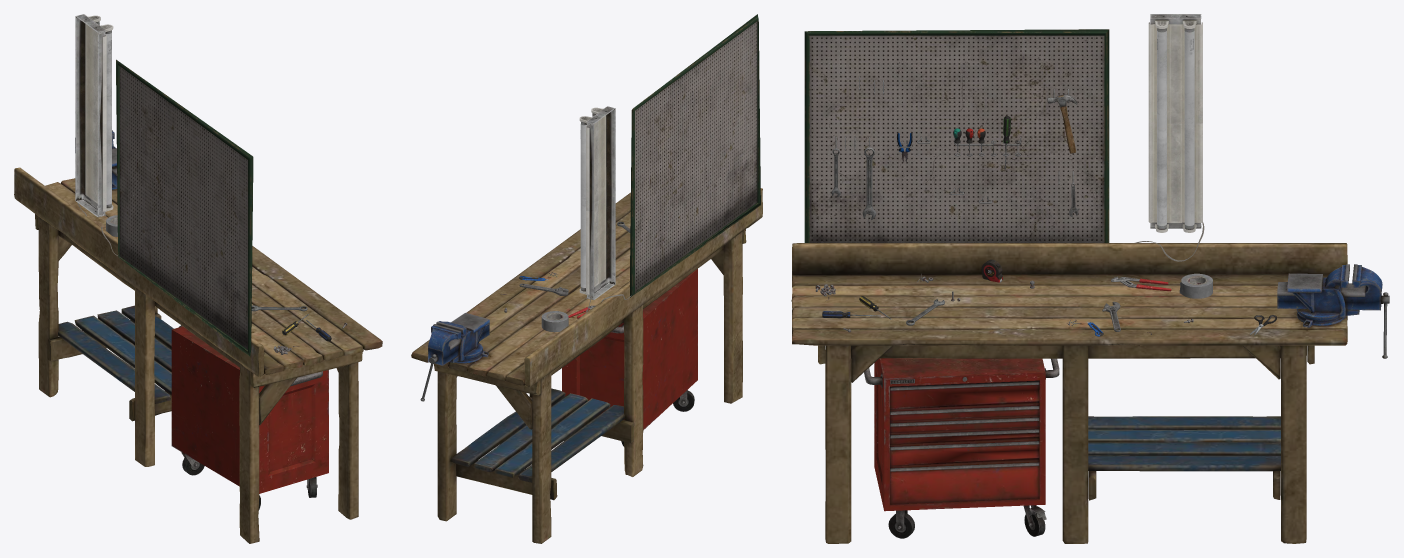
The model's file is workbench-old.glb.
3 renders of one model, left to right at view 1: azimuth 30°, elevation 25°; view 2: azimuth 150°, elevation 25°; view 3: azimuth 270°, elevation 25°, orthographic. The views are drawn at different scales.
Parts seen in each view (by area): view 1: Pegboard_Sheet_low, Tool_Cabinet_Body_low, Workbench_Group_1_low, Workbench_Group_5_low, Workbench_Group_2_low, Light_Fixture_Base_low, Light_Fixture_Plate_low, Pegboard_Frame_low, Workbench_Group_3_low, Workbench_Group_4_low, Light_Fixture_Bulbs_low; view 2: Pegboard_Sheet_low, Workbench_Group_1_low, Workbench_Group_5_low, Tool_Cabinet_Body_low, Workbench_Group_2_low, Workbench_Group_3_low, Light_Fixture_Base_low, Pegboard_Frame_low, Light_Fixture_Plate_low, Vice_Base_low, Vice_Slide_low, Light_Fixture_Bulbs_low (+2 smaller); view 3: Pegboard_Sheet_low, Workbench_Group_1_low, Workbench_Group_2_low, Workbench_Group_5_low, Tool_Cabinet_Drawers_low, Tool_Cabinet_Body_low, Light_Fixture_Plate_low, Workbench_Group_3_low, Pegboard_Frame_low, Light_Fixture_Bulbs_low, Tool_Cabinet_Handles_low, Vice_Base_low (+3 smaller).
Part boxes in pixels (bbox=[...]): Pegboard_Sheet_low: bbox=[119, 66, 250, 349]; Tool_Cabinet_Body_low: bbox=[171, 326, 328, 493]; Workbench_Group_1_low: bbox=[14, 167, 382, 395]; Workbench_Group_5_low: bbox=[38, 217, 358, 543]; Workbench_Group_2_low: bbox=[58, 178, 363, 403]; Light_Fixture_Base_low: bbox=[75, 16, 105, 216]; Light_Fixture_Plate_low: bbox=[85, 24, 106, 211]; Pegboard_Frame_low: bbox=[116, 59, 253, 356]; Workbench_Group_3_low: bbox=[47, 230, 296, 425]; Workbench_Group_4_low: bbox=[35, 214, 362, 387]; Light_Fixture_Bulbs_low: bbox=[96, 21, 111, 207]; Pegboard_Sheet_low: bbox=[635, 18, 757, 291]; Workbench_Group_1_low: bbox=[411, 188, 762, 477]; Workbench_Group_5_low: bbox=[437, 232, 742, 543]; Tool_Cabinet_Body_low: bbox=[562, 269, 697, 429]; Workbench_Group_2_low: bbox=[434, 212, 630, 482]; Workbench_Group_3_low: bbox=[456, 246, 723, 500]; Light_Fixture_Base_low: bbox=[587, 108, 615, 299]; Pegboard_Frame_low: bbox=[629, 14, 760, 297]; Light_Fixture_Plate_low: bbox=[586, 115, 605, 294]; Vice_Base_low: bbox=[436, 313, 489, 363]; Vice_Slide_low: bbox=[428, 320, 489, 365]; Light_Fixture_Bulbs_low: bbox=[580, 113, 595, 291]; Pegboard_Sheet_low: bbox=[809, 35, 1104, 242]; Workbench_Group_1_low: bbox=[792, 243, 1347, 471]; Workbench_Group_2_low: bbox=[791, 274, 1347, 455]; Workbench_Group_5_low: bbox=[825, 345, 1306, 543]; Tool_Cabinet_Drawers_low: bbox=[890, 380, 1039, 504]; Tool_Cabinet_Body_low: bbox=[874, 358, 1045, 511]; Light_Fixture_Plate_low: bbox=[1148, 22, 1202, 222]; Workbench_Group_3_low: bbox=[851, 344, 1306, 500]; Pegboard_Frame_low: bbox=[804, 29, 1109, 242]; Light_Fixture_Bulbs_low: bbox=[1157, 28, 1194, 229]; Tool_Cabinet_Handles_low: bbox=[864, 358, 1059, 471]; Vice_Base_low: bbox=[1287, 264, 1359, 327].
Size of the model in its own units: 0.5233 by 1.6 by 1.87.
Materials: 6 (6 with a texture image).
